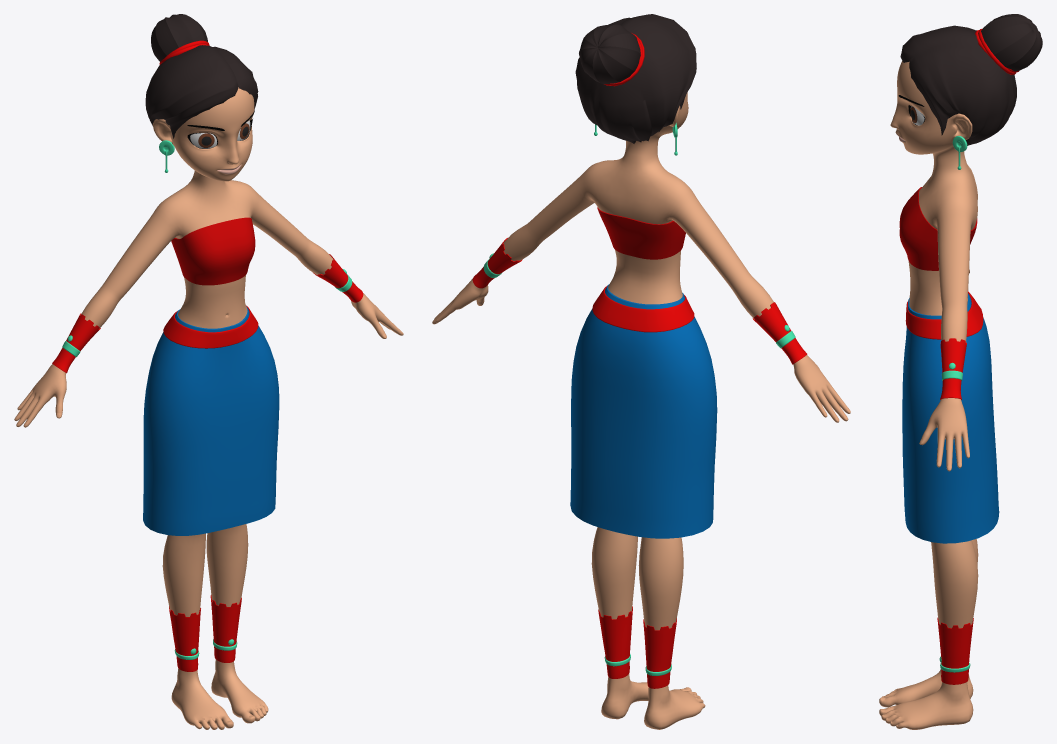
File: Juyub Character.fbx
The picture shows the model from 3 angles, left to right: view 1: azimuth 30°, elevation 25°; view 2: azimuth 150°, elevation 25°; view 3: azimuth 270°, elevation 25°; orthographic projection. The views are drawn at different scales.
Visible parts, largest first — view 1: polySurface183, polySurface156, polySurface151, polySurface133, polySurface157, polySurface150, polySurface160, polySurface177, polySurface176, polySurface169; view 2: polySurface156, polySurface183, polySurface151, polySurface150, polySurface133, polySurface157, polySurface160, polySurface177, polySurface176, polySurface169; view 3: polySurface183, polySurface156, polySurface151, polySurface150, polySurface133, polySurface160, polySurface169, polySurface157.
Boxes of the visible parts, box(x1,y1,x2,y2) form: polySurface183: box(14, 87, 403, 729); polySurface156: box(143, 306, 279, 535); polySurface151: box(145, 45, 258, 138); polySurface133: box(171, 217, 255, 285); polySurface157: box(163, 305, 258, 348); polySurface150: box(151, 14, 207, 61); polySurface160: box(210, 595, 241, 662); polySurface177: box(169, 606, 200, 671); polySurface176: box(52, 313, 100, 373); polySurface169: box(313, 254, 363, 302); polySurface156: box(570, 284, 717, 538); polySurface183: box(432, 92, 850, 729); polySurface151: box(575, 14, 696, 143); polySurface150: box(579, 24, 640, 84); polySurface133: box(597, 207, 685, 259); polySurface157: box(592, 285, 694, 332); polySurface160: box(598, 606, 632, 678); polySurface177: box(643, 618, 676, 688); polySurface176: box(752, 302, 807, 364); polySurface169: box(472, 238, 522, 288); polySurface183: box(879, 61, 978, 729); polySurface156: box(902, 293, 999, 543); polySurface151: box(900, 25, 1016, 145); polySurface150: box(981, 14, 1042, 71); polySurface133: box(899, 187, 977, 270); polySurface160: box(937, 617, 973, 684); polySurface169: box(940, 338, 966, 399); polySurface157: box(905, 291, 983, 339).
Bounding box in the file's own units: 90.2 × 149 × 31.77.
